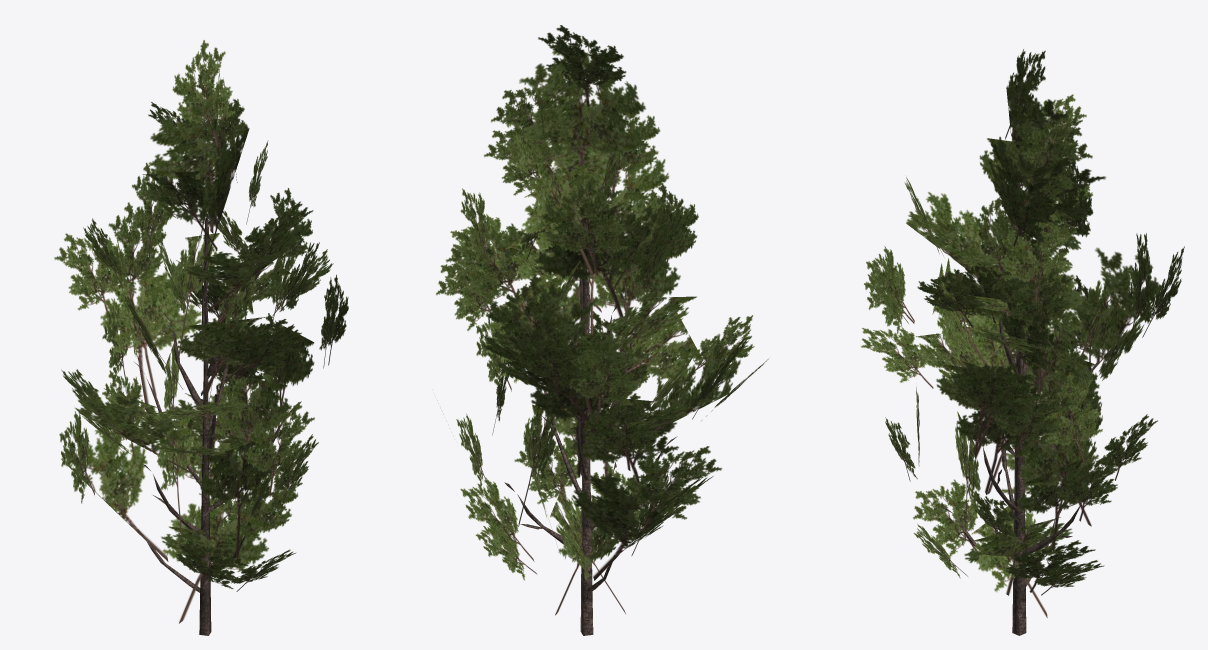
Rendered from bush-tall.lod0.glb.
The picture shows the model from 3 angles, left to right: view 1: azimuth 30°, elevation 25°; view 2: azimuth 150°, elevation 25°; view 3: azimuth 270°, elevation 25°; orthographic projection. The views are drawn at different scales.
Parts seen in each view (by area): view 1: Object_17, Object_16; view 2: Object_17, Object_16; view 3: Object_17, Object_16.
Boxes of the visible parts, x1=… form: Object_17: x1=54, y1=40, x2=348, y2=623; Object_16: x1=134, y1=212, x2=301, y2=635; Object_17: x1=436, y1=25, x2=768, y2=615; Object_16: x1=504, y1=162, x2=677, y2=635; Object_17: x1=860, y1=49, x2=1184, y2=617; Object_16: x1=942, y1=230, x2=1096, y2=635.
Size of the model in its own units: 1.12 by 2 by 1.14.
2 materials, 2 textured.
